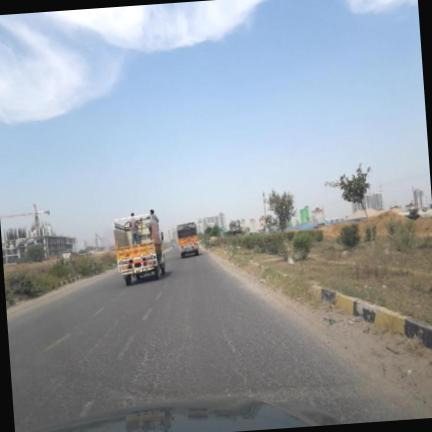Road: (7, 251, 404, 431)
